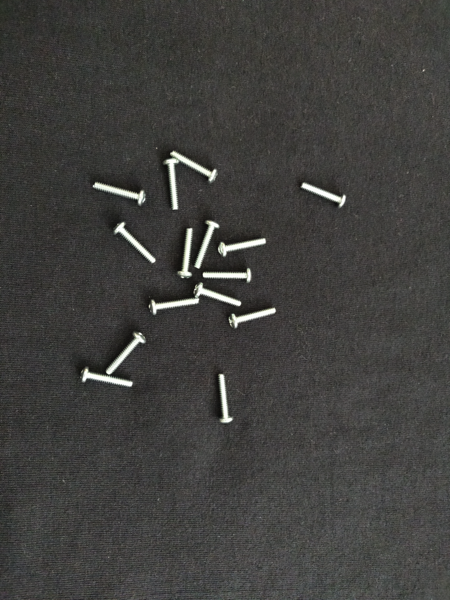longscrew: (111, 220, 161, 266), (104, 330, 149, 377), (168, 148, 219, 185), (89, 178, 150, 208), (192, 219, 222, 272), (298, 179, 349, 210), (78, 365, 139, 390), (191, 282, 245, 308), (161, 157, 185, 214), (228, 307, 278, 332), (218, 234, 270, 258), (174, 227, 196, 283), (148, 296, 202, 318), (215, 372, 235, 426), (202, 268, 255, 284)
